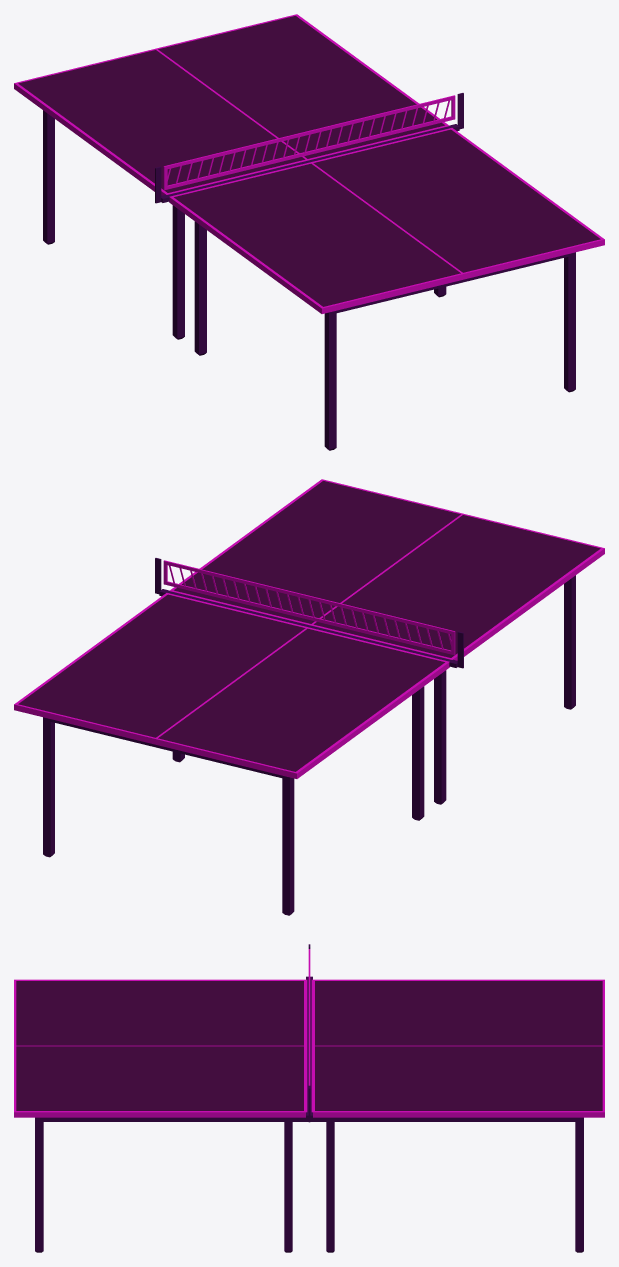
Rendered from TableTennisTable_01.fbx.
3 renders of one model, top to bottom at view 1: azimuth 30°, elevation 25°; view 2: azimuth 150°, elevation 25°; view 3: azimuth 270°, elevation 25°, orthographic. The views are drawn at different scales.
Parts seen in each view (by area): view 1: TableTennisTable_01; view 2: TableTennisTable_01; view 3: TableTennisTable_01.
Boxes of the visible parts, x1,y1,x2,y2 form: TableTennisTable_01: (14,14,604,450); TableTennisTable_01: (14,479,604,915); TableTennisTable_01: (14,944,604,1252).
Bounding box in the file's own units: 11.31 × 6.54 × 19.58.
